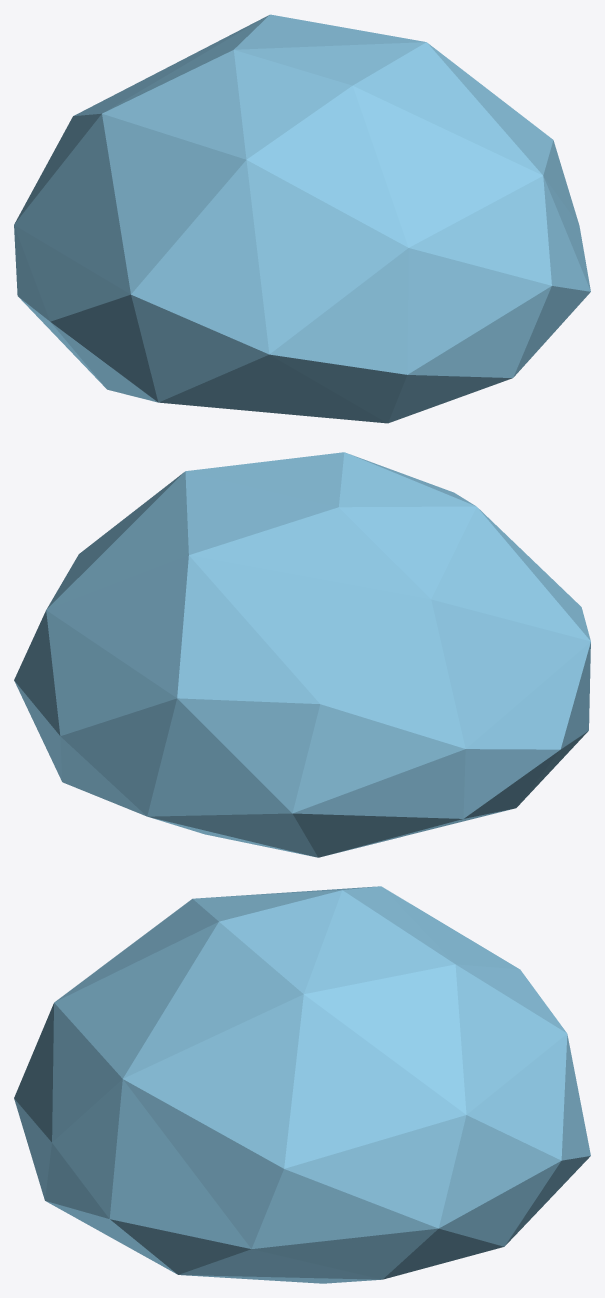
File: slime.gltf
The picture shows the model from 3 angles, top to bottom: view 1: azimuth 30°, elevation 25°; view 2: azimuth 150°, elevation 25°; view 3: azimuth 270°, elevation 25°; orthographic projection.
Parts seen in each view (by area): view 1: Icosphere; view 2: Icosphere; view 3: Icosphere.
Part boxes in pixels (x1,y1,x2,y2): Icosphere: (14, 14, 590, 423); Icosphere: (14, 452, 590, 857); Icosphere: (14, 886, 590, 1283).
Size of the model in its own units: 2.01 by 1.12 by 2.02.
